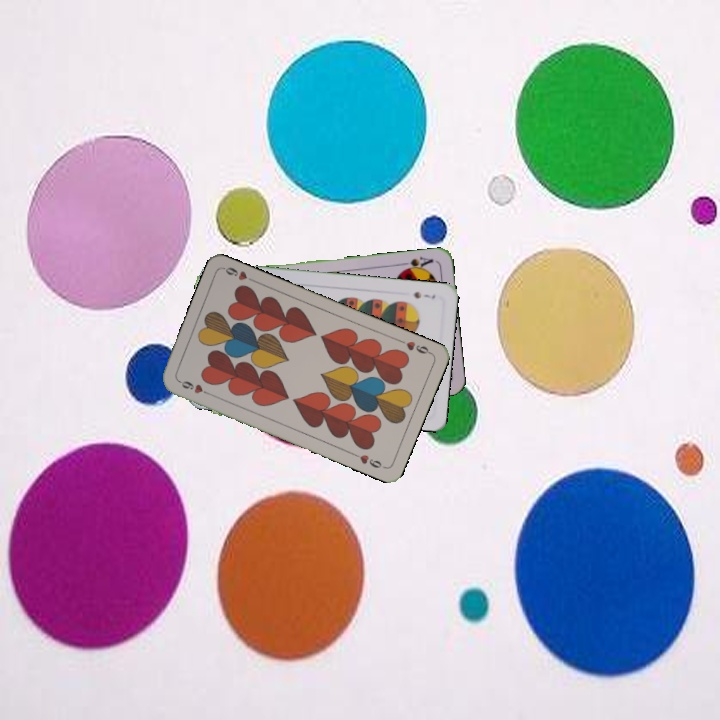H9: (395, 335, 434, 357), (175, 376, 213, 398)
S7: (410, 287, 438, 301)
SA: (397, 253, 436, 274)
